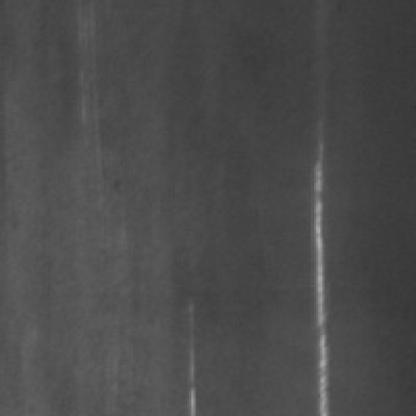scratches: (310, 138, 337, 412)
